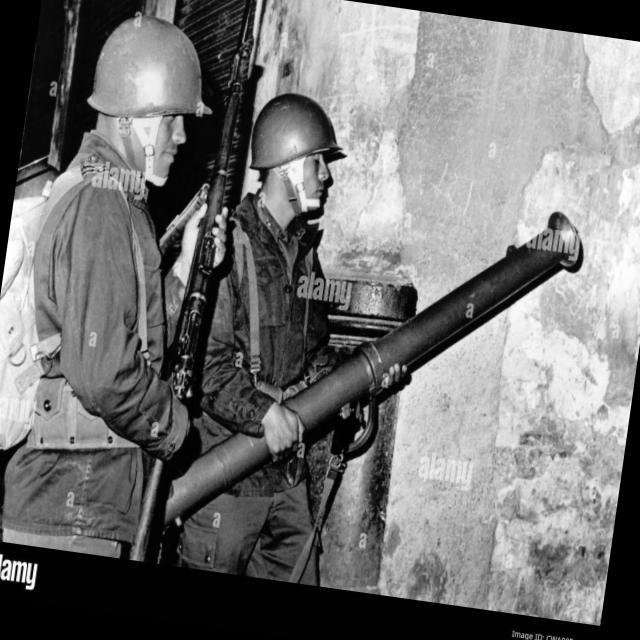rocket: (168, 157, 582, 580)
